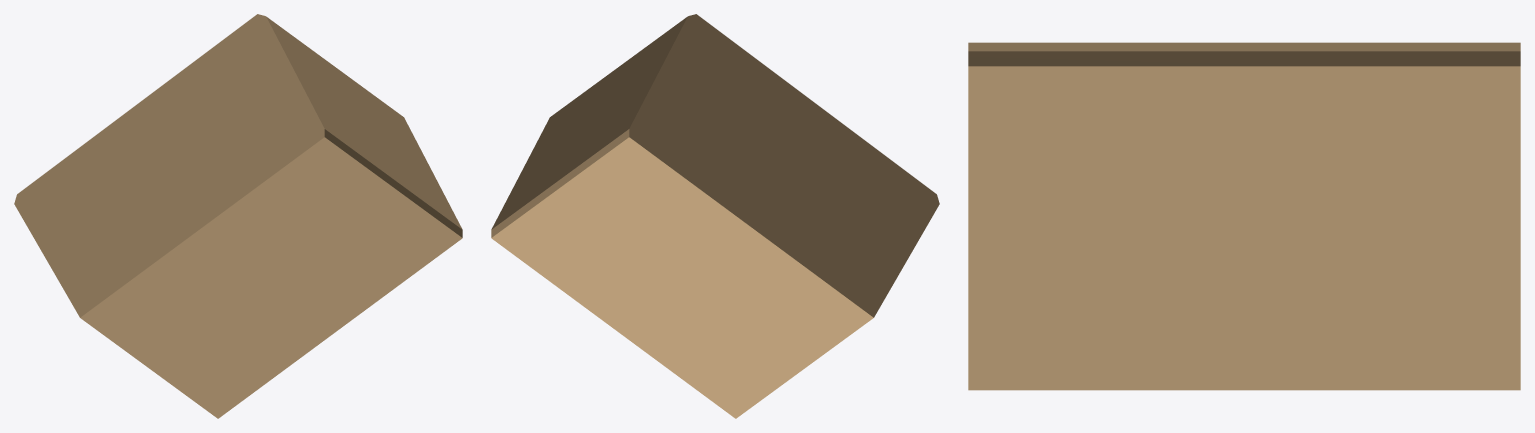
The picture shows the model from 3 angles, left to right: view 1: azimuth 30°, elevation 25°; view 2: azimuth 150°, elevation 25°; view 3: azimuth 270°, elevation 25°; orthographic projection. The views are drawn at different scales.
Visible parts, largest first — view 1: 0_1_0_2_2_1_1_1_3; view 2: 0_1_0_2_2_1_1_1_3; view 3: 0_1_0_2_2_1_1_1_3.
Part boxes in pixels (x1=…): 0_1_0_2_2_1_1_1_3: x1=14, y1=14, x2=462, y2=418; 0_1_0_2_2_1_1_1_3: x1=491, y1=14, x2=939, y2=418; 0_1_0_2_2_1_1_1_3: x1=968, y1=42, x2=1520, y2=390.
Size of the model in its own units: 27.26 by 21.86 by 21.
